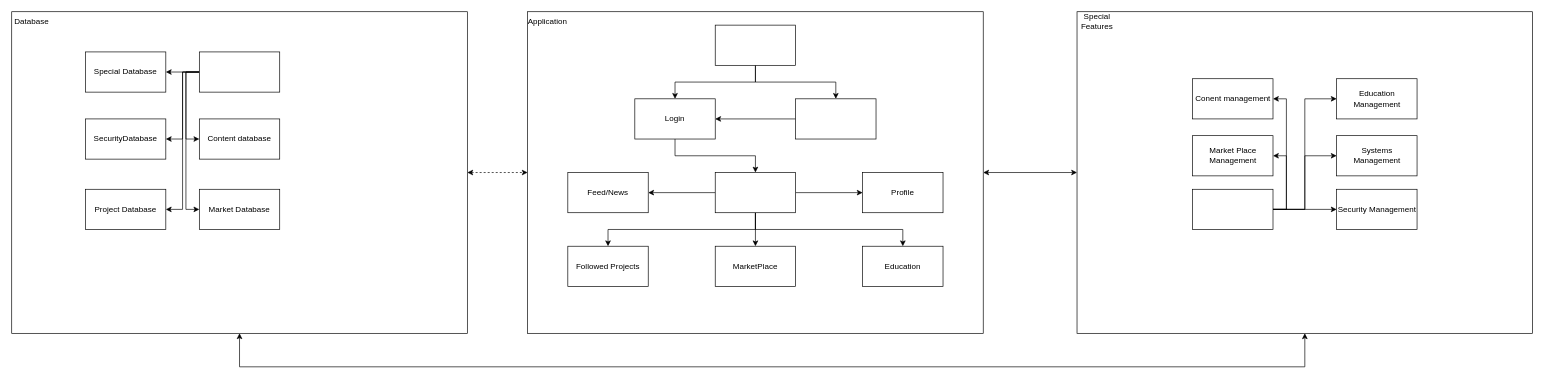
The diagram is 1544 pixels wide and 385 high, and some of its shapes have lost their labels. Each missing label, with the centre of its shape:
Dashboard: (x=755, y=192)
General Management: (x=1232, y=209)
Profile Database: (x=239, y=71)
Register: (x=835, y=118)
Welcome page: (x=755, y=44)
